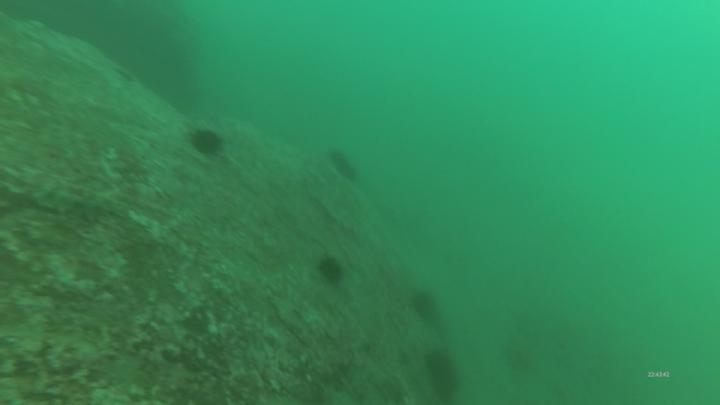echinus: (424, 348, 463, 405), (326, 146, 360, 184), (316, 251, 348, 291), (189, 125, 225, 160), (411, 288, 437, 319)
